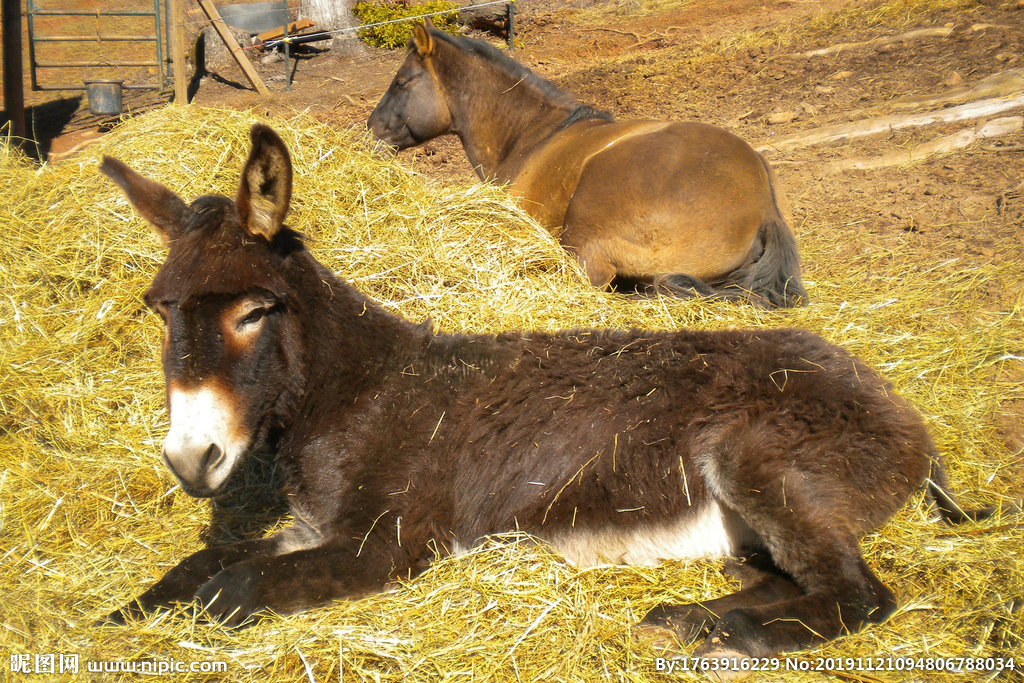horse: (364, 19, 808, 306)
